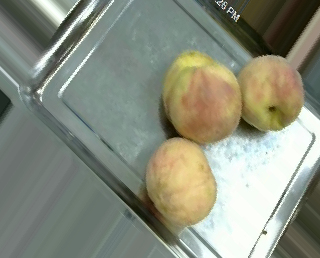Peach: (161, 50, 241, 141), (146, 139, 218, 232), (236, 54, 303, 132)
